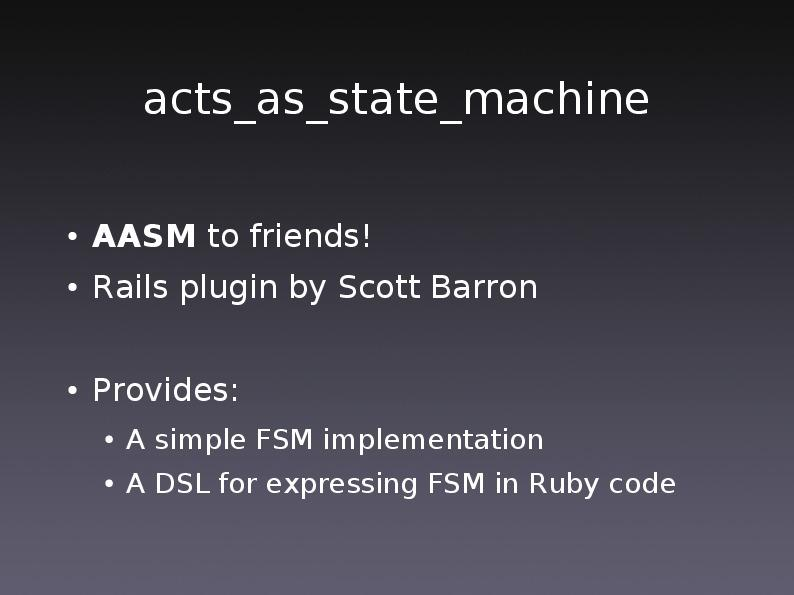paragraph: (59, 206, 708, 521)
title: (139, 78, 657, 127)
